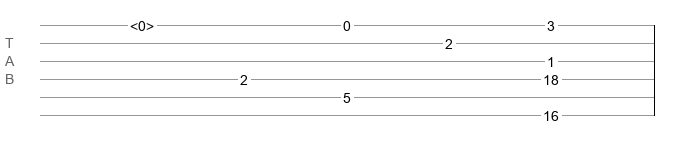0: (343, 18, 351, 28)
1: (547, 54, 555, 64)
16: (543, 108, 559, 118)
18: (543, 72, 559, 82)
2: (240, 72, 248, 82), (445, 36, 453, 46)
3: (547, 18, 555, 28)
5: (343, 90, 351, 100)
harmonic: (130, 18, 154, 28)
